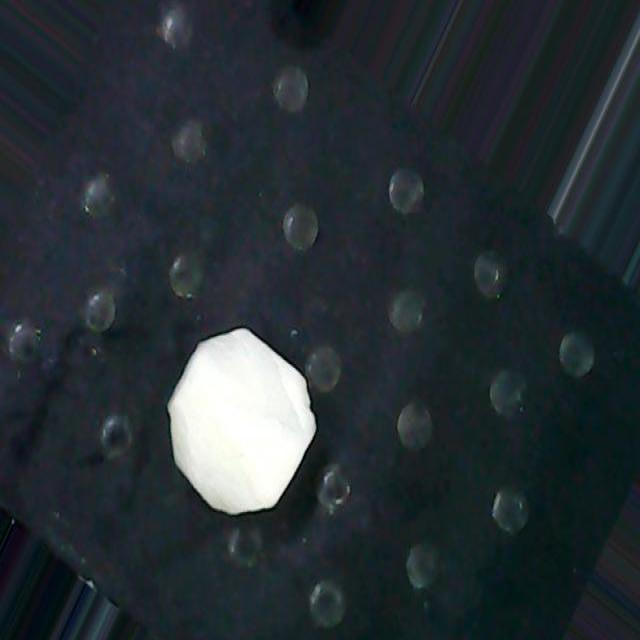-Kitchen waste - white radish-: (163, 332, 319, 512)
